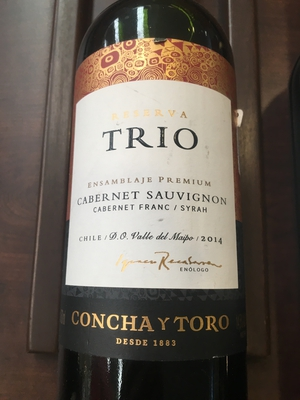trio cabernet sauvignon: (57, 10, 252, 400)
